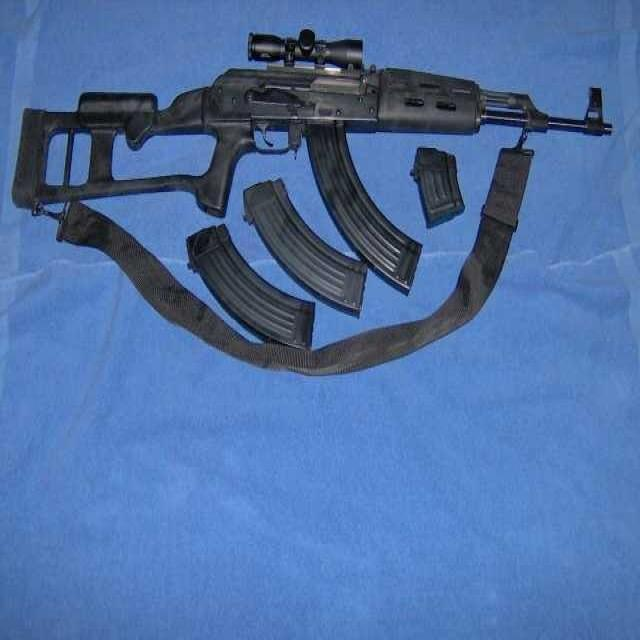weapon: (0, 52, 616, 244)
